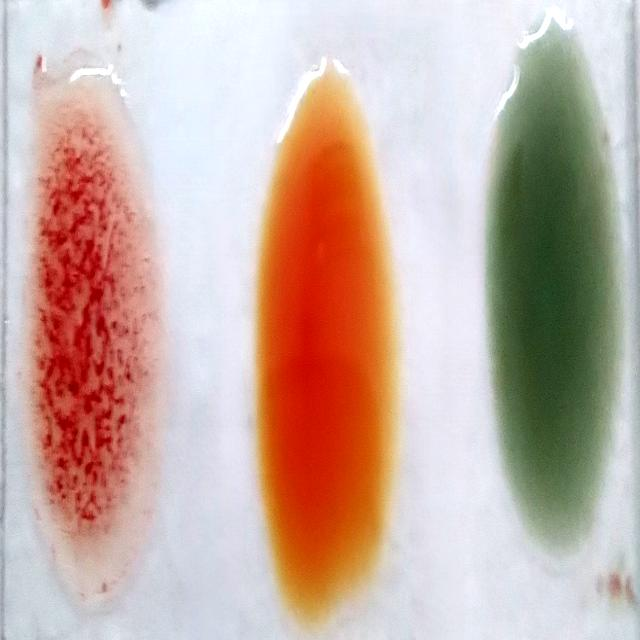D: (33, 68, 139, 594)
